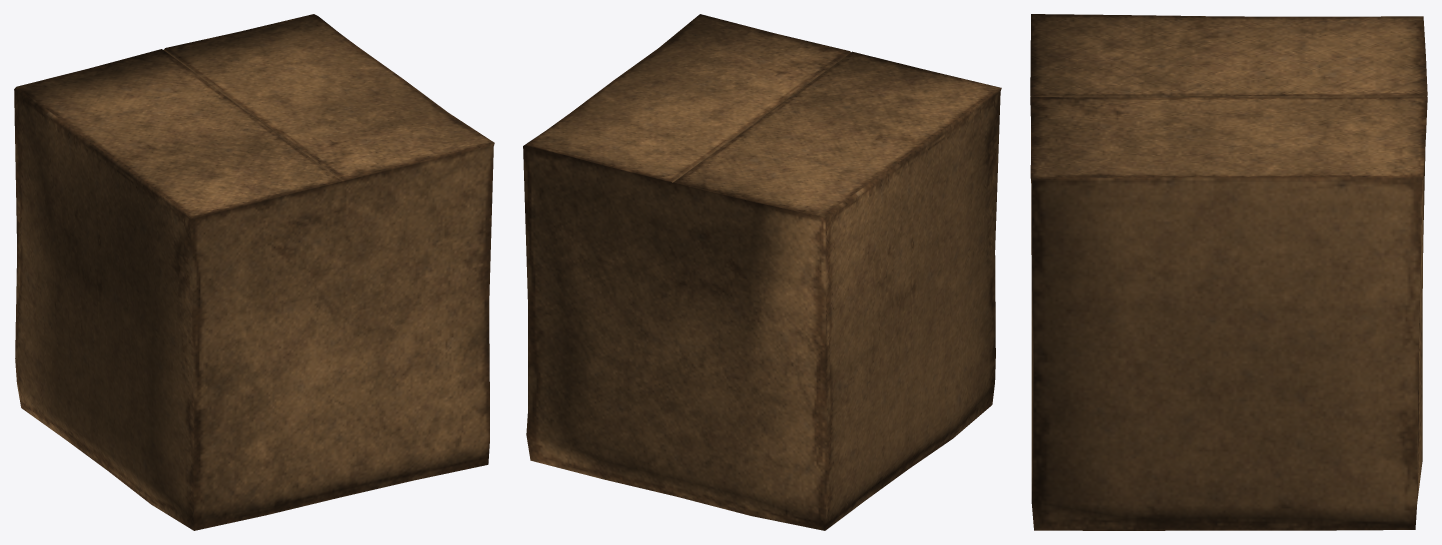
File: Box_Medium.fbx
The picture shows the model from 3 angles, left to right: view 1: azimuth 30°, elevation 25°; view 2: azimuth 150°, elevation 25°; view 3: azimuth 270°, elevation 25°; orthographic projection. The views are drawn at different scales.
Visible parts, largest first — view 1: R_Box.001; view 2: R_Box.001; view 3: R_Box.001.
Boxes of the visible parts, box(x1,y1,x2,y2) form: R_Box.001: box(14, 14, 494, 530); R_Box.001: box(523, 14, 1001, 530); R_Box.001: box(1030, 14, 1427, 530).
Bounding box in the file's own units: 72.24 × 72.66 × 73.45.
Materials: 1 (1 with a texture image).
